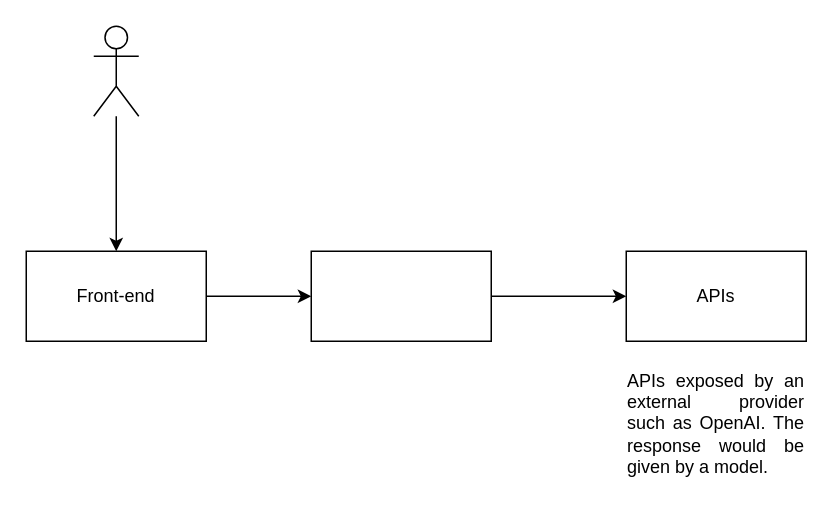
The diagram is 833 pixels wide and 518 high, and some of its shapes have lost their labels. Each missing label, with the centre of its shape:
Actor: point (115, 70)
MindsDB: point (400, 295)
